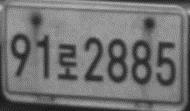1: (35, 33, 51, 79)
2: (82, 36, 105, 83)
5: (155, 40, 177, 86)
8: (104, 37, 128, 83), (130, 38, 152, 85)
9: (9, 32, 31, 78)
로: (56, 42, 79, 81)
